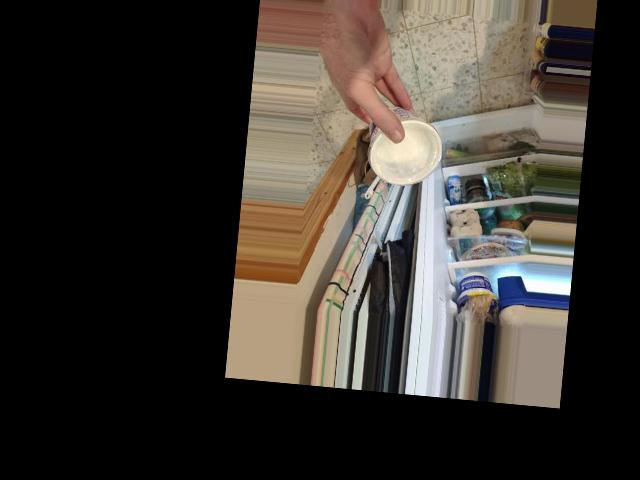cotage: (364, 101, 438, 193)
